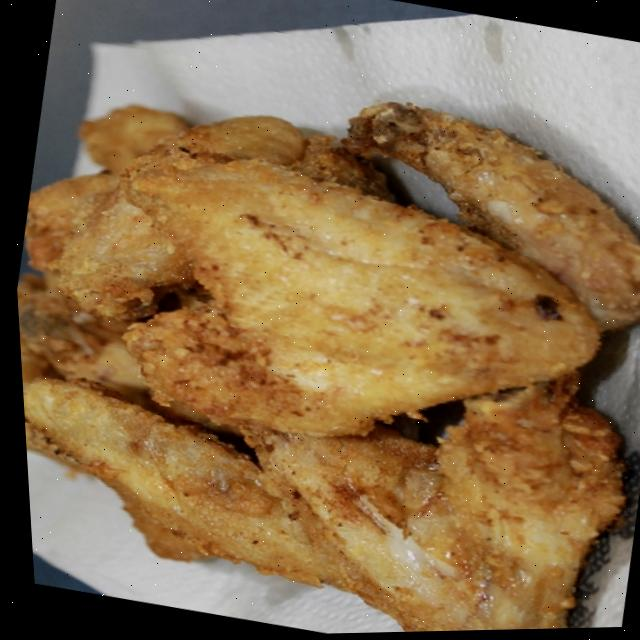鸡肉料理 含炸鸡: (1, 19, 640, 640)
